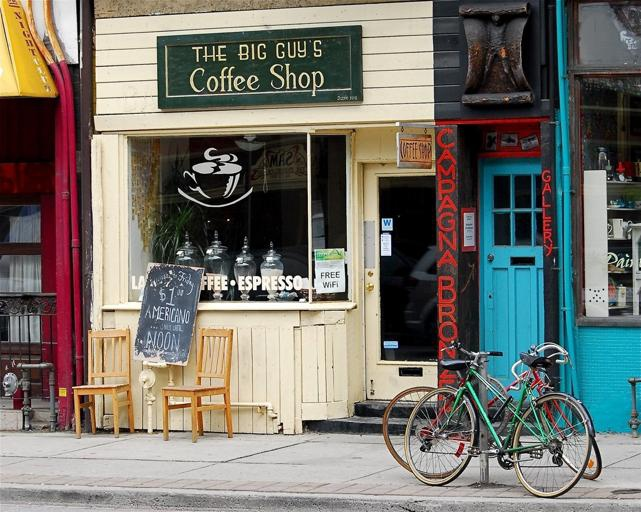non-vehicle: (382, 339, 603, 481), (403, 336, 596, 498)
